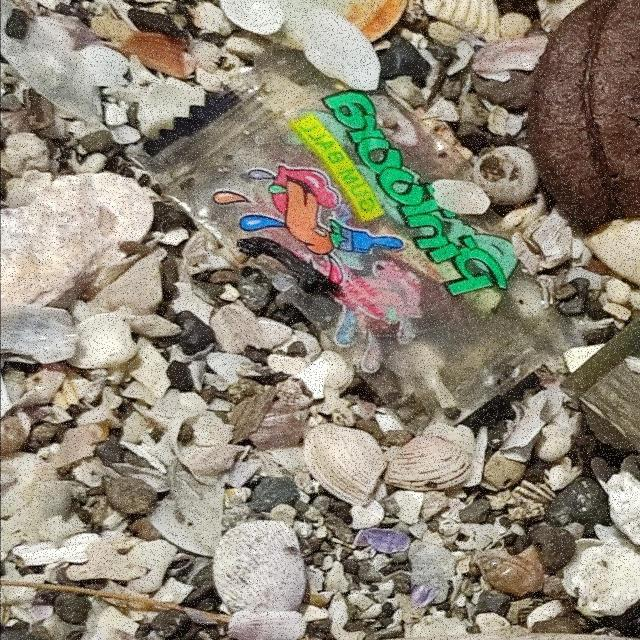plastic_waste: (141, 50, 585, 437)
